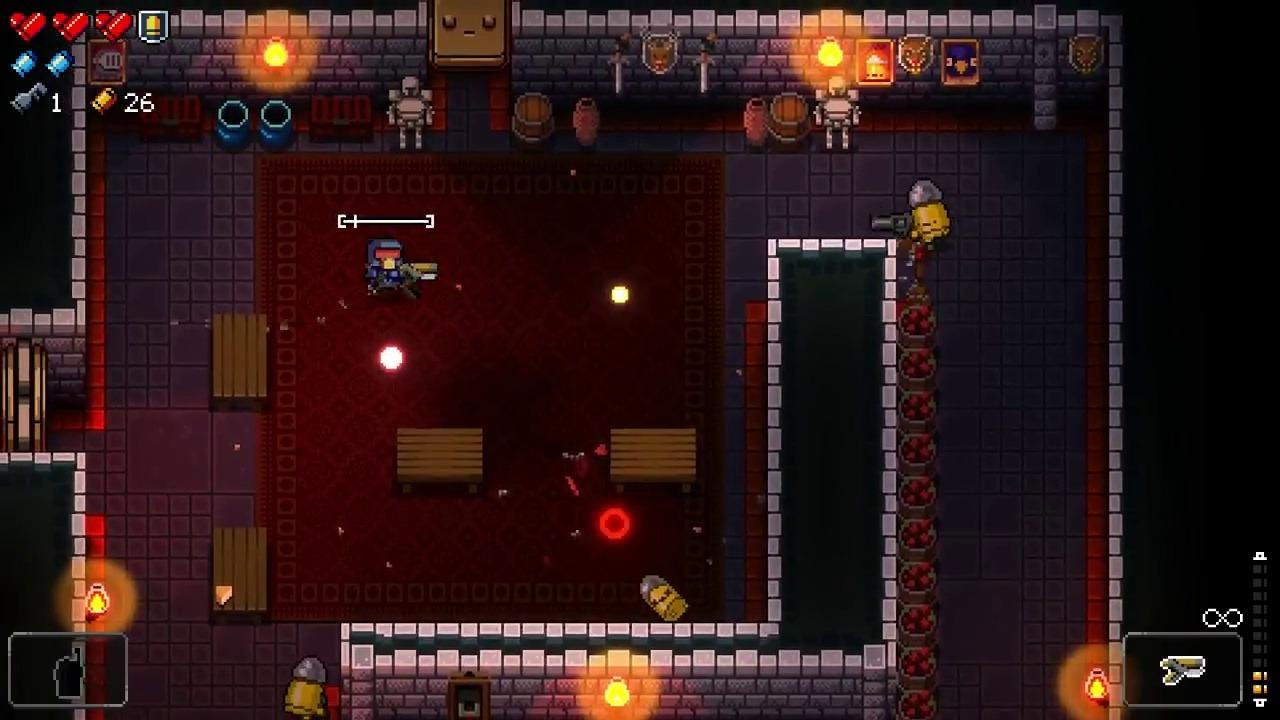bullet: (379, 343, 404, 373)
bullet_kin: (285, 654, 328, 720), (907, 179, 950, 243)
dead_bullet_kin: (640, 572, 689, 622)
locked_door: (427, 0, 510, 72), (0, 337, 45, 454)
player: (366, 238, 405, 293)
table: (396, 427, 483, 495), (611, 428, 697, 495), (210, 312, 266, 410), (213, 526, 268, 625)
